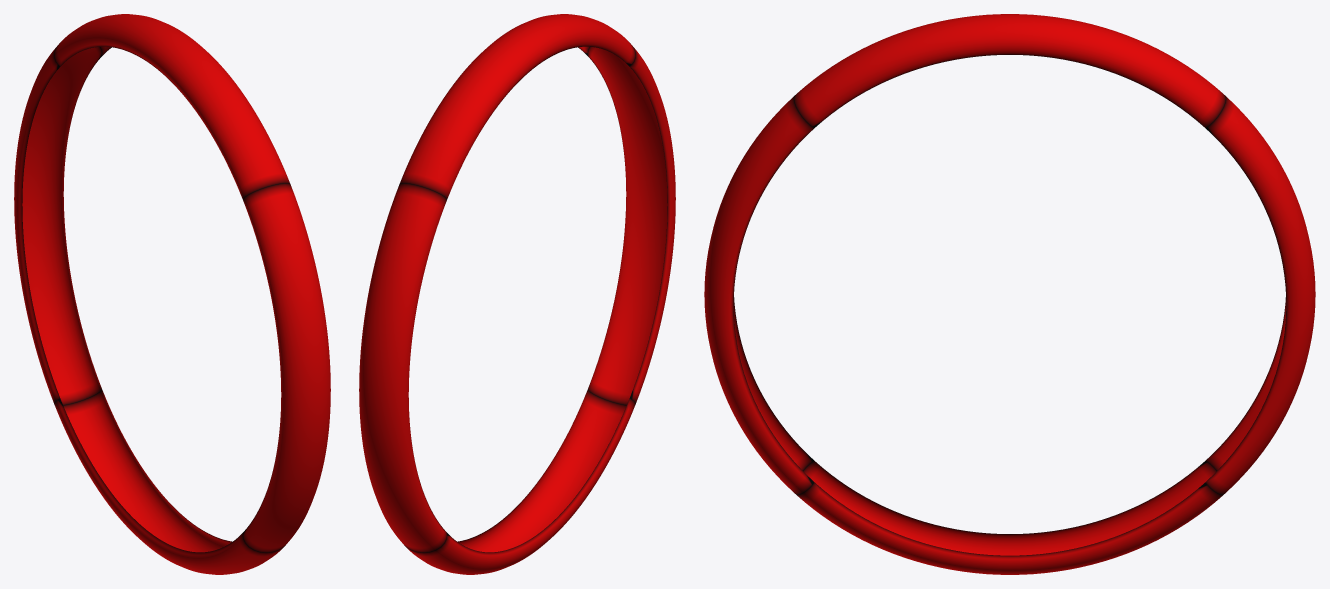
File: MTB_Tire_Mud_Buildup.fbx
The picture shows the model from 3 angles, left to right: view 1: azimuth 30°, elevation 25°; view 2: azimuth 150°, elevation 25°; view 3: azimuth 270°, elevation 25°; orthographic projection. The views are drawn at different scales.
Parts seen in each view (by area): view 1: MTB_Tire_Mud_Buildup; view 2: MTB_Tire_Mud_Buildup; view 3: MTB_Tire_Mud_Buildup.
Boxes of the visible parts, x1,y1,x2,y2 form: MTB_Tire_Mud_Buildup: (14,14,330,574); MTB_Tire_Mud_Buildup: (359,14,675,574); MTB_Tire_Mud_Buildup: (704,14,1315,574).
Size of the model in its own units: 5.54 by 59.74 by 59.74.
